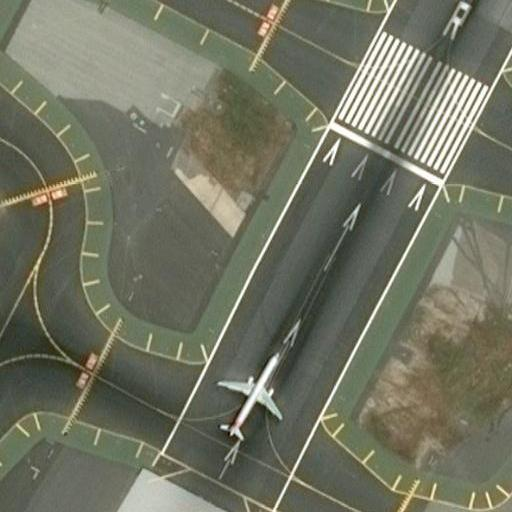Aircraft: (211, 345, 284, 444)
